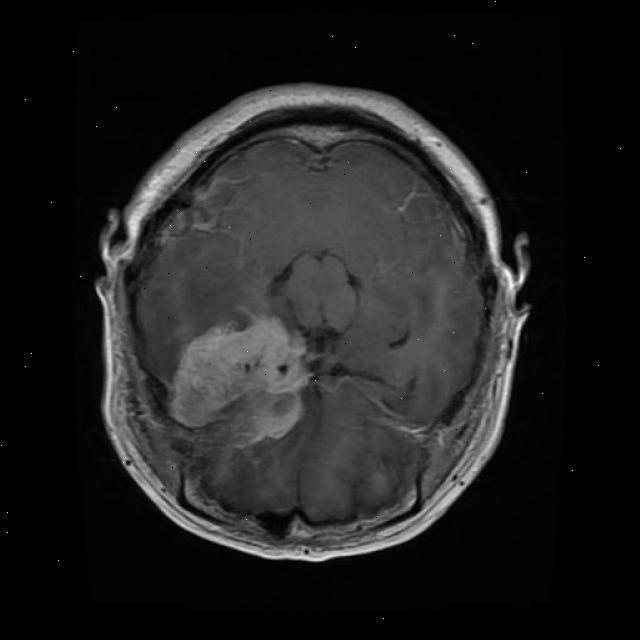Meningioma: (168, 316, 314, 466)
